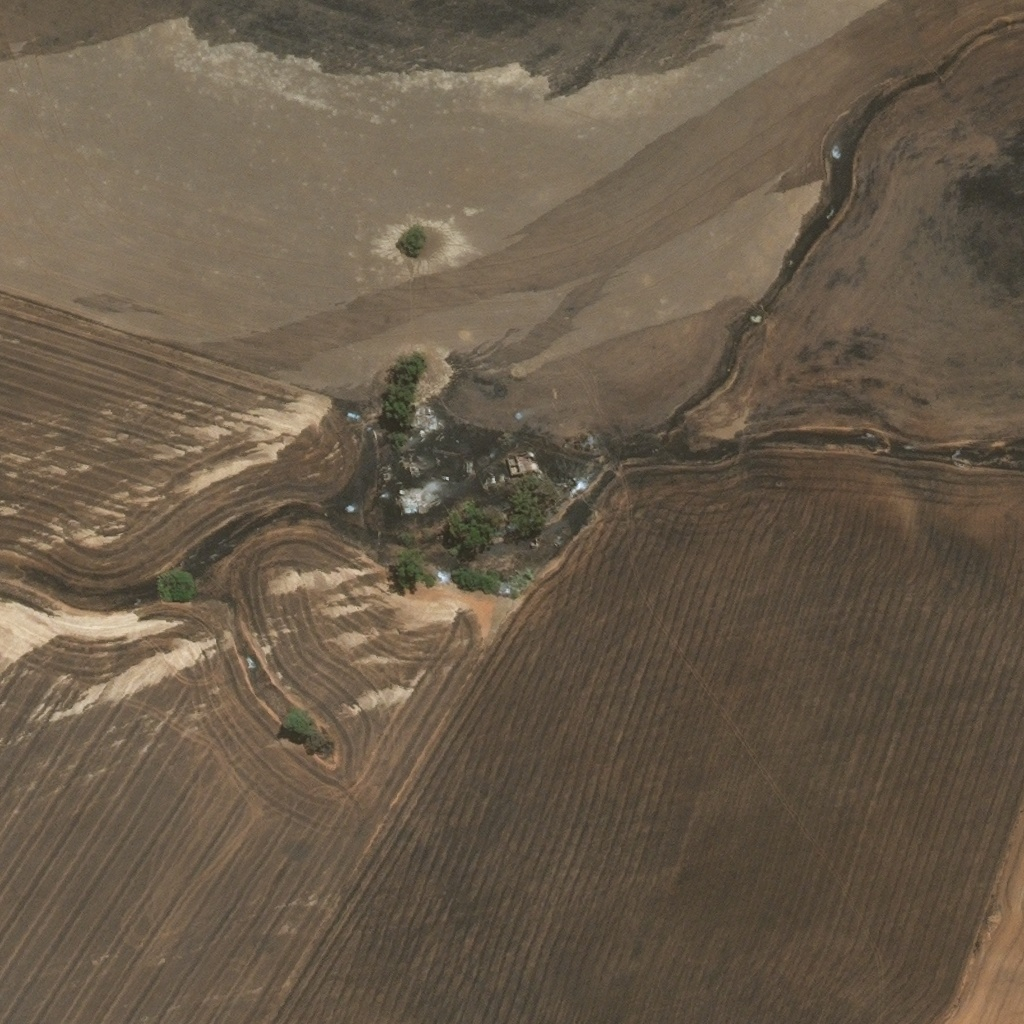3 destroyed: (505, 455, 536, 476), (465, 462, 475, 474)
